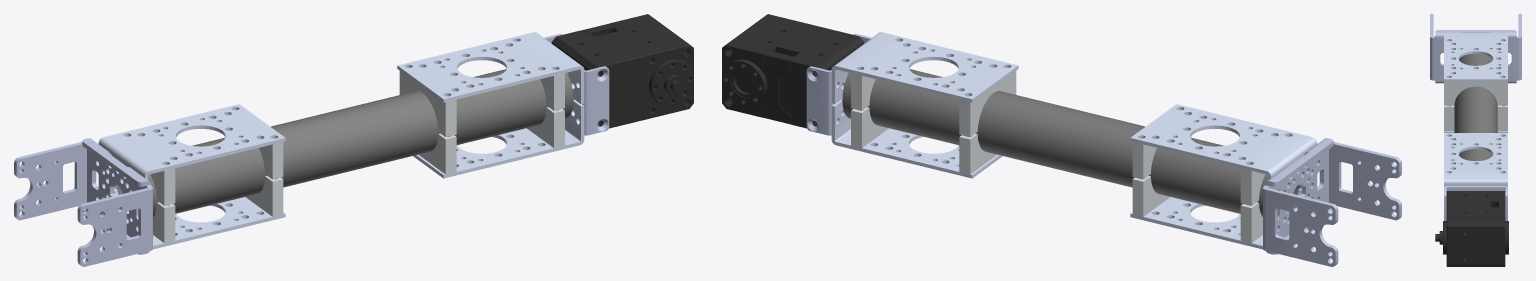
The model's file is back_arm_link1.dae.
The picture shows the model from 3 angles, left to right: view 1: azimuth 30°, elevation 25°; view 2: azimuth 150°, elevation 25°; view 3: azimuth 270°, elevation 25°; orthographic projection. The views are drawn at different scales.
Visible parts, largest first — view 1: node3, node4, node2, node0, node1; view 2: node3, node4, node2, node0, node1; view 3: node3, node0, node4, node2, node1.
Part boxes in pixels (bbox=[...]): node3: bbox=[98, 32, 584, 249]; node4: bbox=[115, 69, 573, 216]; node2: bbox=[14, 33, 609, 266]; node0: bbox=[551, 14, 693, 128]; node1: bbox=[151, 71, 564, 243]; node3: bbox=[831, 32, 1317, 249]; node4: bbox=[842, 69, 1300, 216]; node2: bbox=[806, 33, 1401, 266]; node0: bbox=[722, 14, 864, 128]; node1: bbox=[851, 71, 1264, 243]; node3: bbox=[1444, 33, 1507, 186]; node0: bbox=[1435, 191, 1508, 266]; node4: bbox=[1454, 53, 1497, 161]; node2: bbox=[1430, 14, 1521, 220]; node1: bbox=[1444, 81, 1507, 131].
Size of the model in its own units: 0.2892 by 0.053 by 0.035.
